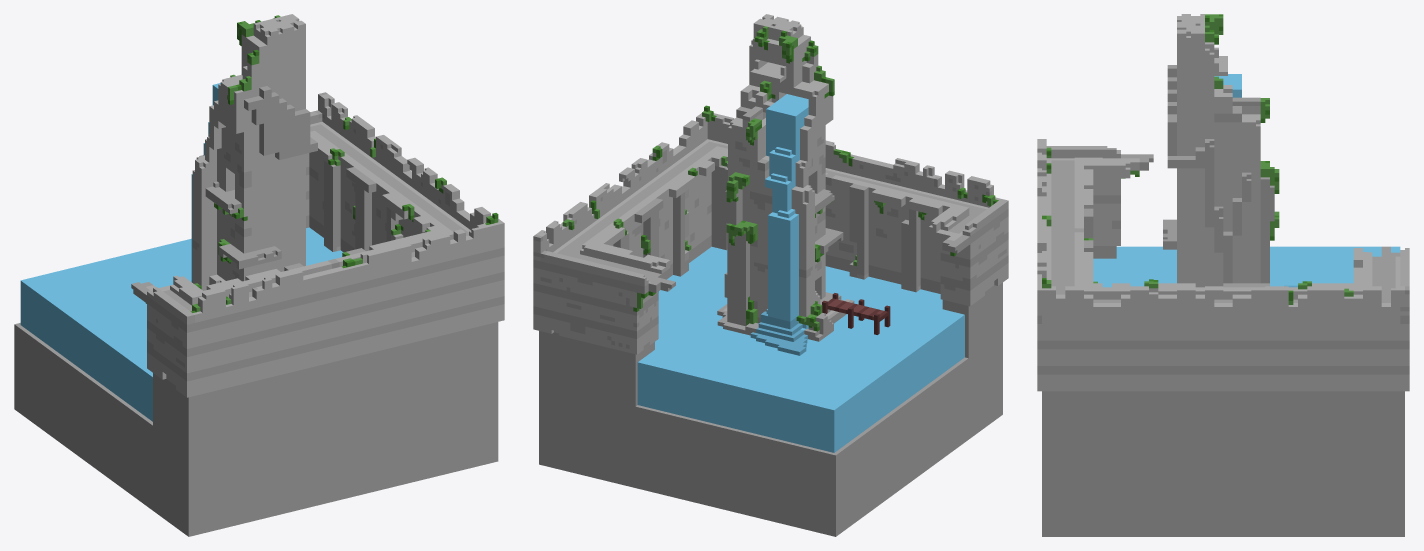
File: temple.glb
3 views of the same model, side by side, from view 1: azimuth 30°, elevation 25°; view 2: azimuth 150°, elevation 25°; view 3: azimuth 270°, elevation 25° (orthographic). The views are drawn at different scales.
Parts seen in each view (by area): view 1: water-temple-night; view 2: water-temple-night; view 3: water-temple-night.
Part boxes in pixels (box(x1,y1,x2,y2)): water-temple-night: box(14, 14, 504, 536); water-temple-night: box(533, 14, 1008, 536); water-temple-night: box(1037, 14, 1409, 536).
Size of the model in its own units: 8.2 by 10.4 by 8.
Materials: 1 (1 with a texture image).
